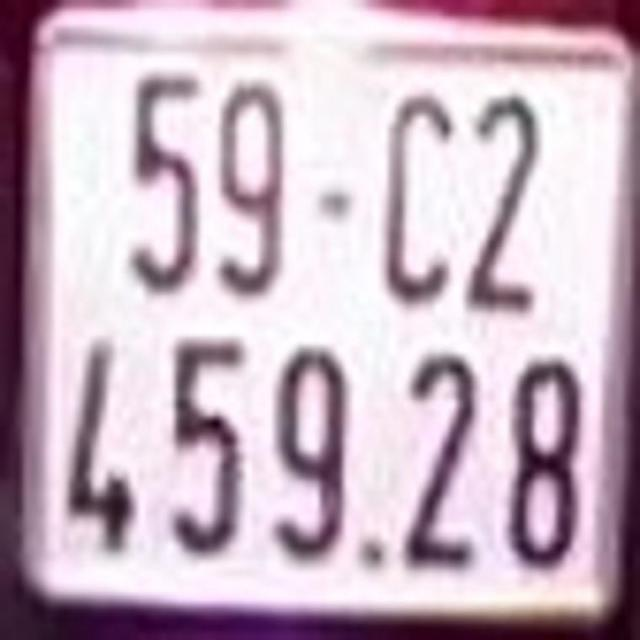2: (405, 350, 485, 572), (469, 93, 539, 314)
4: (65, 332, 138, 559)
5: (165, 332, 244, 559), (130, 68, 203, 295)
8: (509, 356, 582, 574)
9: (270, 342, 350, 564), (216, 79, 284, 296)
C: (380, 86, 456, 308)
